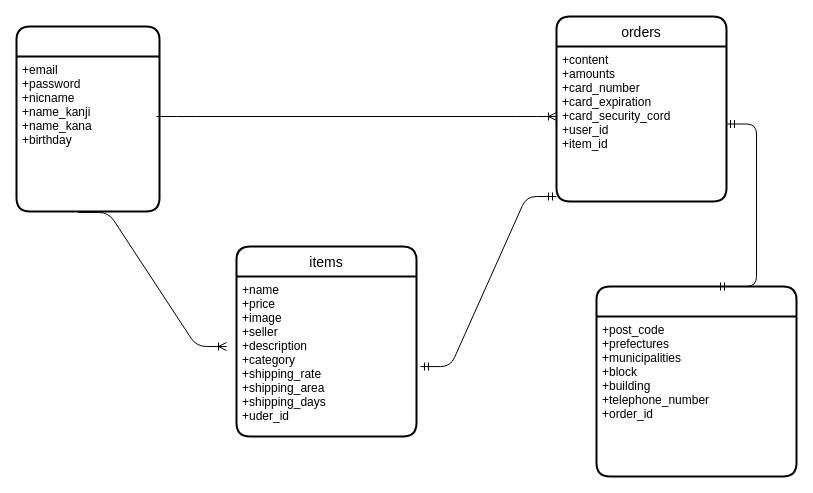
Image size: 813x493. Some labels were removed from this diagram. Each missing label, with the box of its shape:
address: (595, 285, 797, 477)
users: (15, 25, 160, 212)
